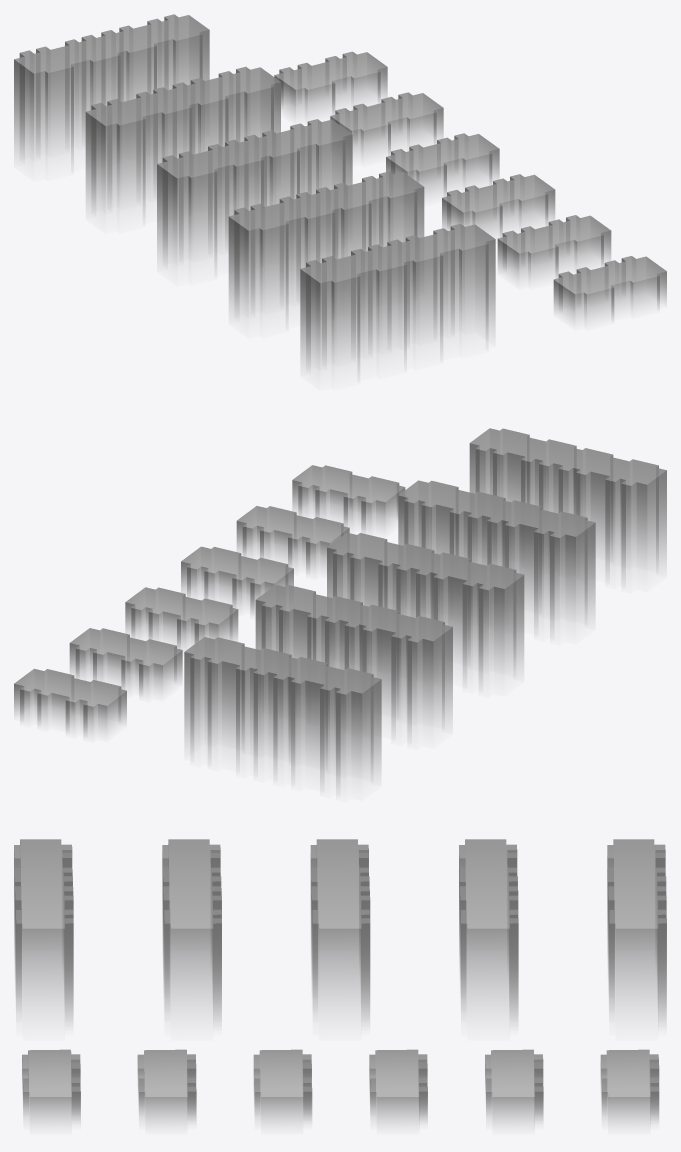
File: 实景氛围建筑_003.glb
3 views of the same model, one above another, from view 1: azimuth 30°, elevation 25°; view 2: azimuth 150°, elevation 25°; view 3: azimuth 270°, elevation 25° (orthographic). The views are drawn at different scales.
Parts seen in each view (by area): view 1: 实景氛围建筑_003; view 2: 实景氛围建筑_003; view 3: 实景氛围建筑_003.
Part boxes in pixels (<box>): 实景氛围建筑_003: <box>14,14,666,376</box>; 实景氛围建筑_003: <box>14,428,666,791</box>; 实景氛围建筑_003: <box>14,839,666,1126</box>.
Bounding box in the file's own units: 67.34 × 21.31 × 105.
1 material, 1 textured.
